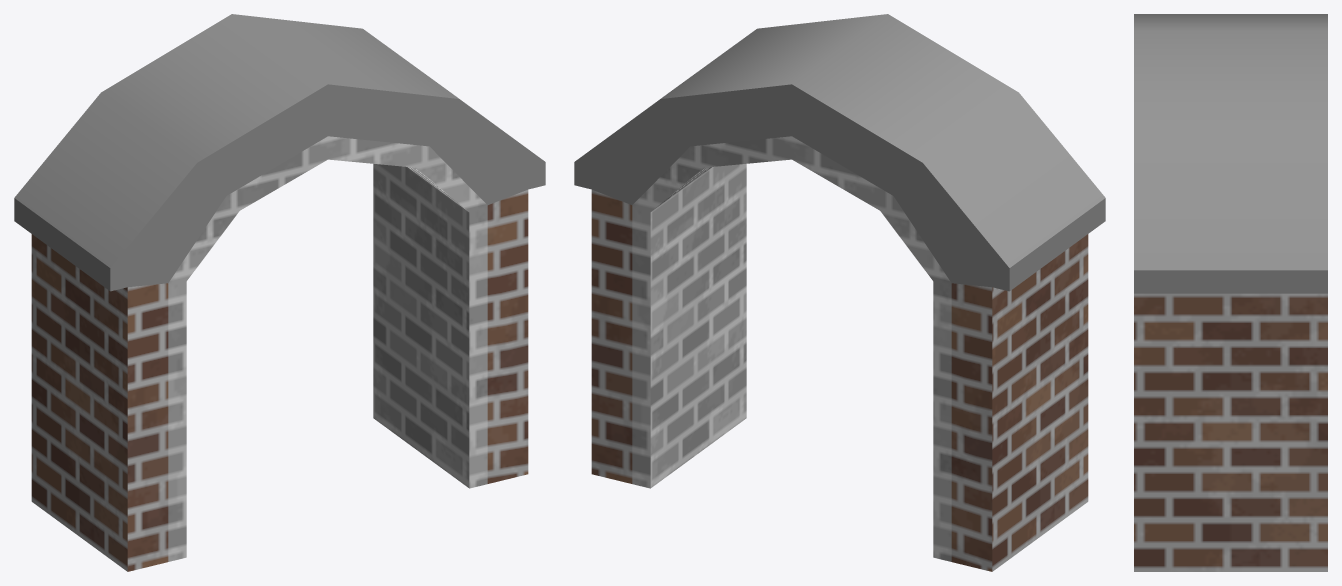
Rendered from Mid_Roof_002.FBX.
3 renders of one model, left to right at view 1: azimuth 30°, elevation 25°; view 2: azimuth 150°, elevation 25°; view 3: azimuth 270°, elevation 25°, orthographic.
Visible parts, largest first — view 1: Mid_Roof_002; view 2: Mid_Roof_002; view 3: Mid_Roof_002.
Part boxes in pixels (bbox=[...]): Mid_Roof_002: bbox=[14, 14, 545, 571]; Mid_Roof_002: bbox=[574, 14, 1105, 571]; Mid_Roof_002: bbox=[1134, 14, 1327, 571].
Size of the model in its own units: 262 by 100 by 252.
